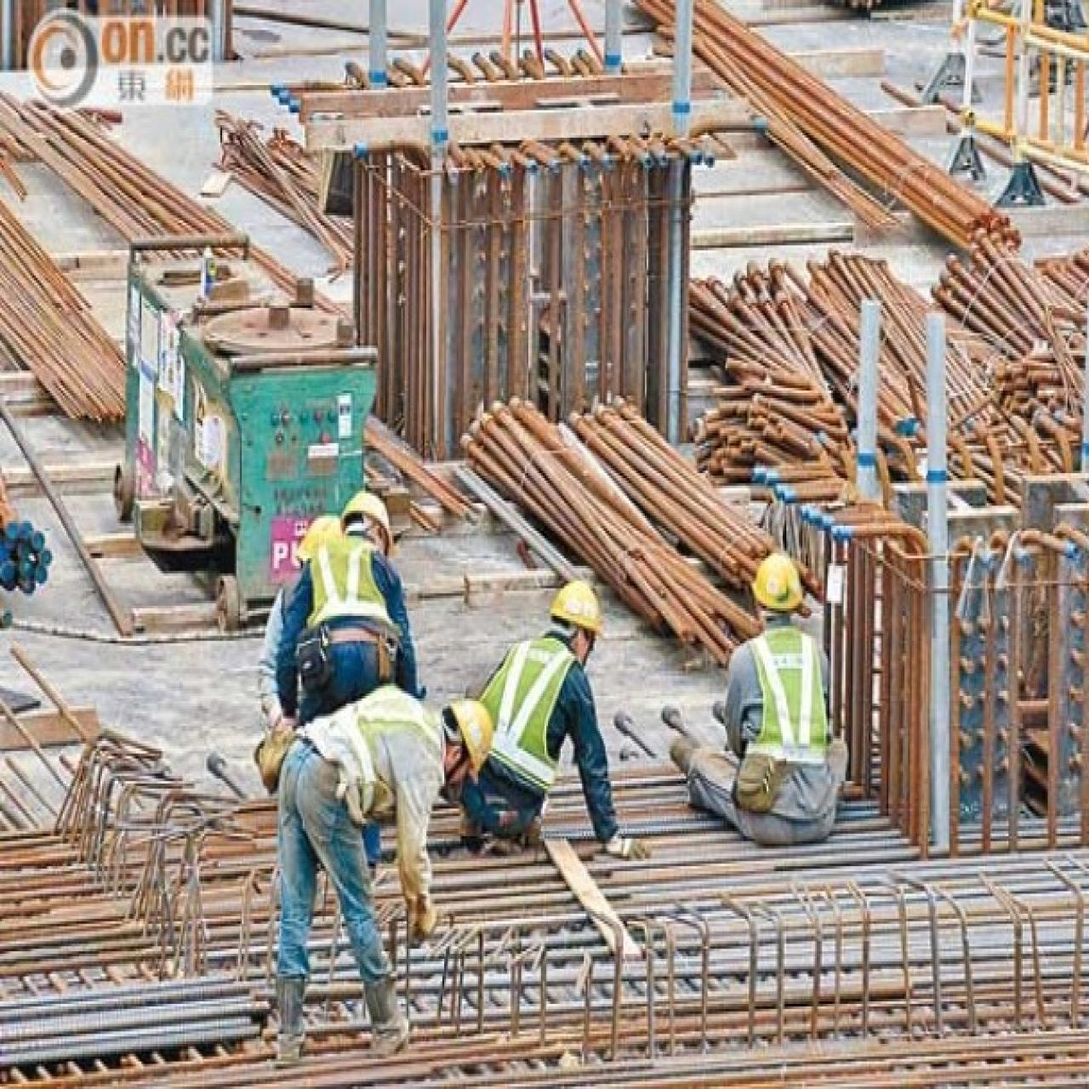Person: (252, 681, 502, 1064), (663, 536, 860, 854), (265, 478, 414, 851), (453, 574, 646, 856), (257, 521, 341, 734)
Safety_Vest: (305, 679, 447, 813), (471, 629, 575, 792), (738, 623, 834, 780), (304, 531, 395, 632)
